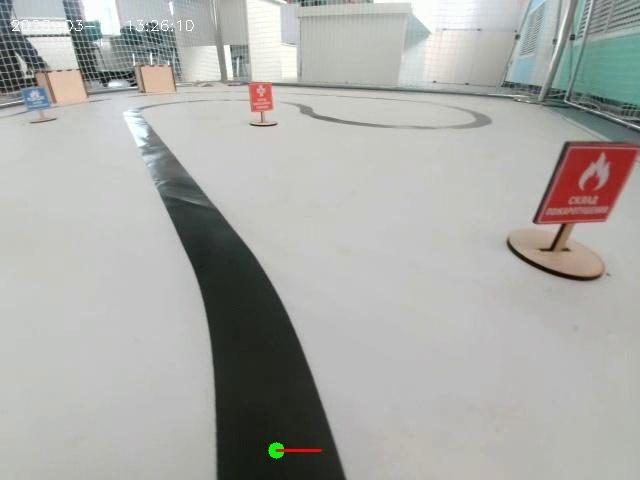fire: (531, 131, 636, 274)
flood: (10, 70, 68, 140)
medical: (234, 72, 291, 134)
